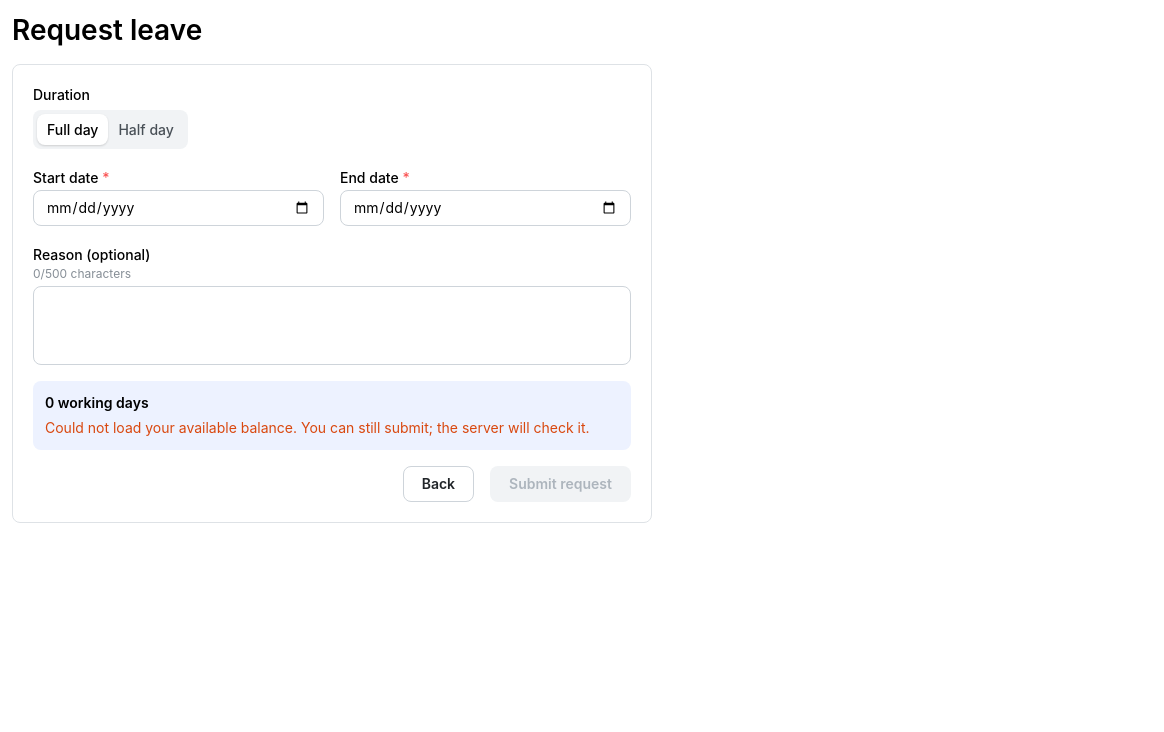
Test case: NewRequest › warns but still allows submitting when the balance cannot be loaded
Expected: the text "Could not load your available balance. You can still submit; the server will check it." is shown, [45,419,590,436]
Type "2026-11-02" into the date field labelled "Start date *" at (178, 208), box [33,190,324,226]
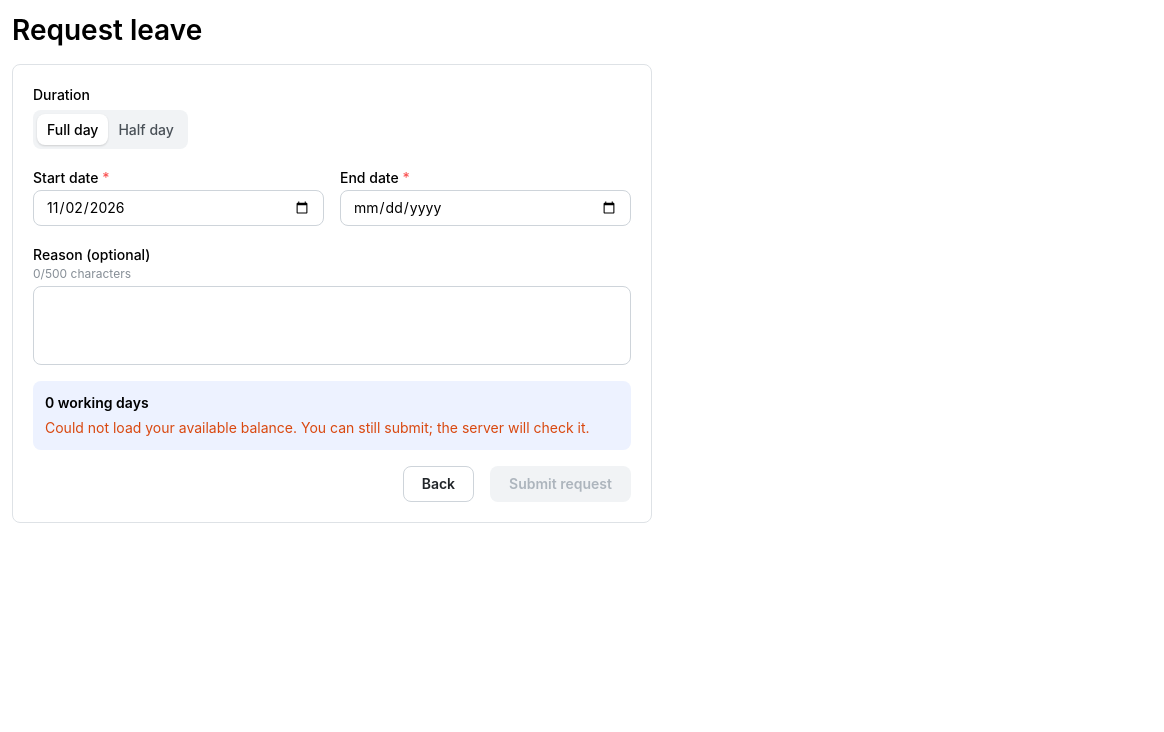
Type "2026-11-02" into the date field labelled "End date *" at (486, 208), box [340,190,631,226]
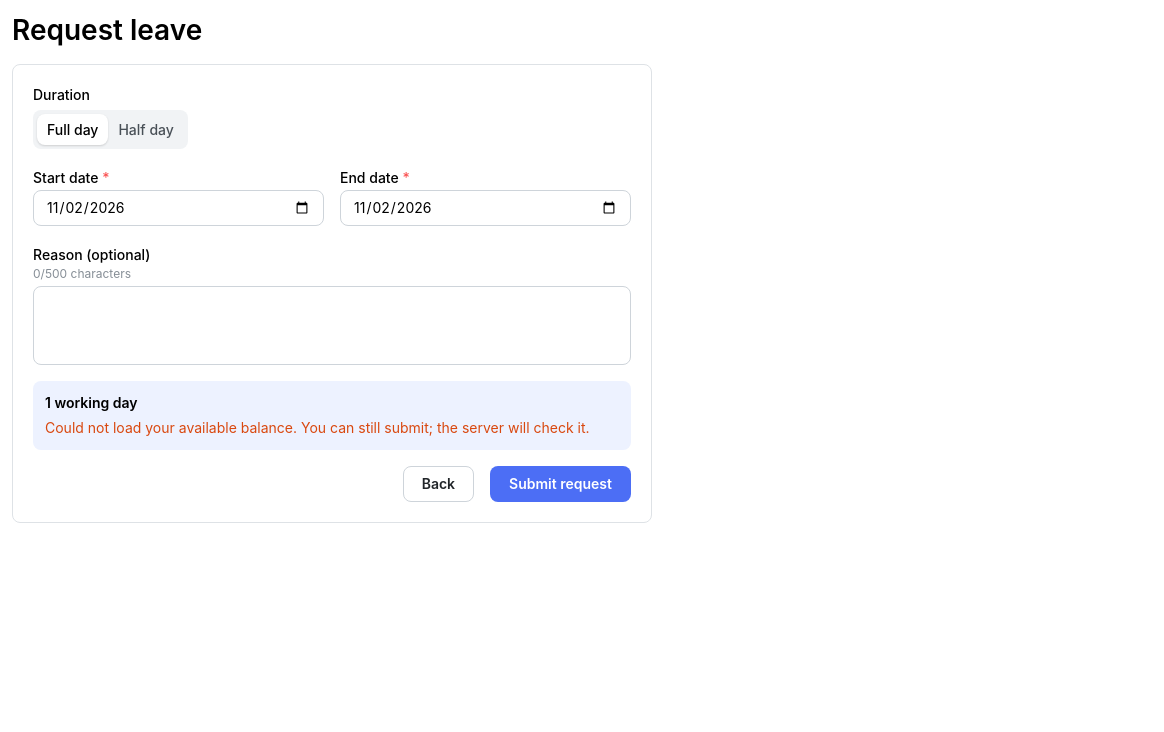
Click the button "Submit request" at (561, 484), box [490,466,631,502]
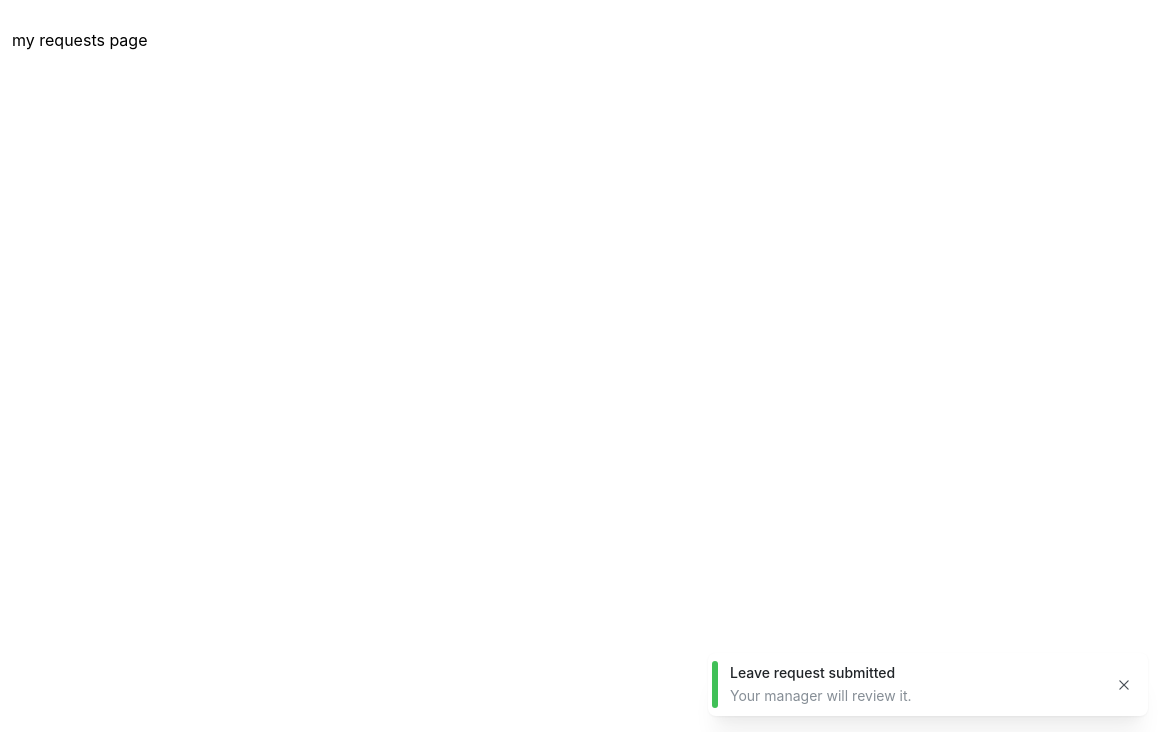
Now the text "my requests page" is shown, box [12,30,148,50]
